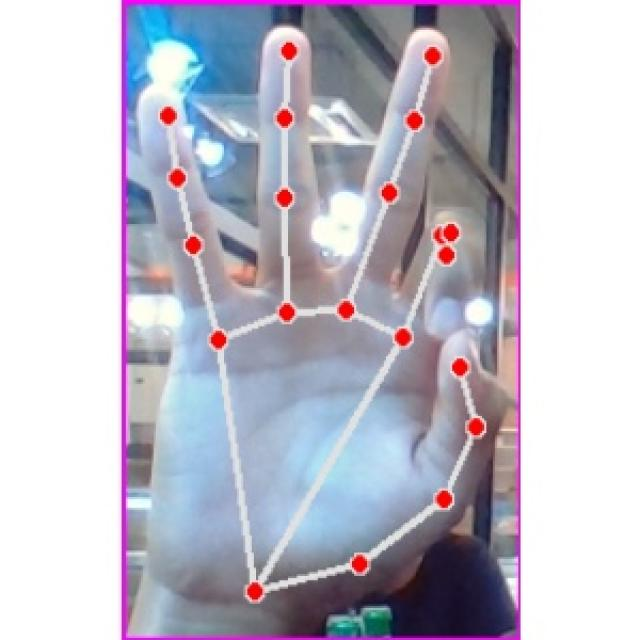F: (136, 16, 497, 606)
